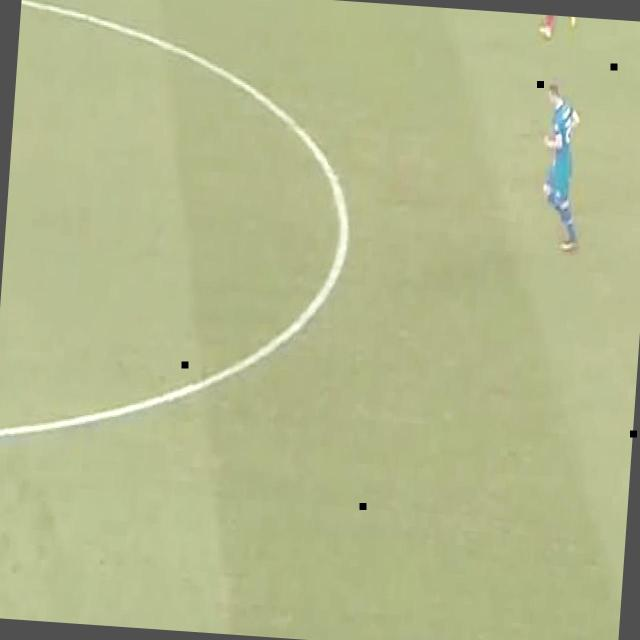player-white: (535, 84, 589, 254), (538, 15, 576, 41)
